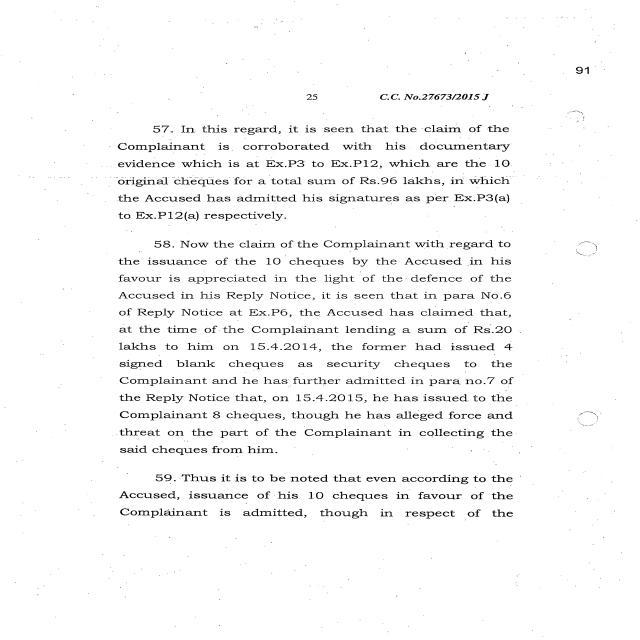page-number: (488, 1, 640, 105)
